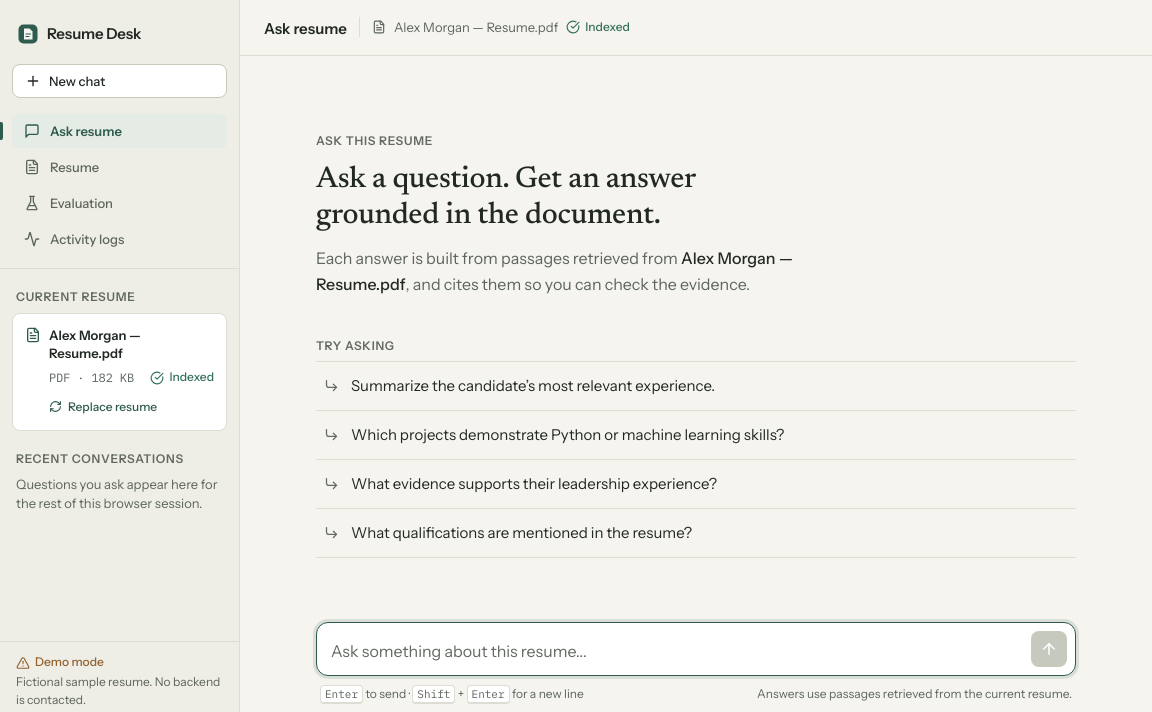
Test: chat flow (demo adapter) › answers with citations, keeps follow-up context, and isolates new conversations
The width and height of the screenshot is (1152, 712).
Type "Which programming languages are mentioned?" into the text box named "Question about the resume".
click(677, 651); type("Which programming languages are mentioned?")  # box [331, 635, 1023, 667]
Then press Enter
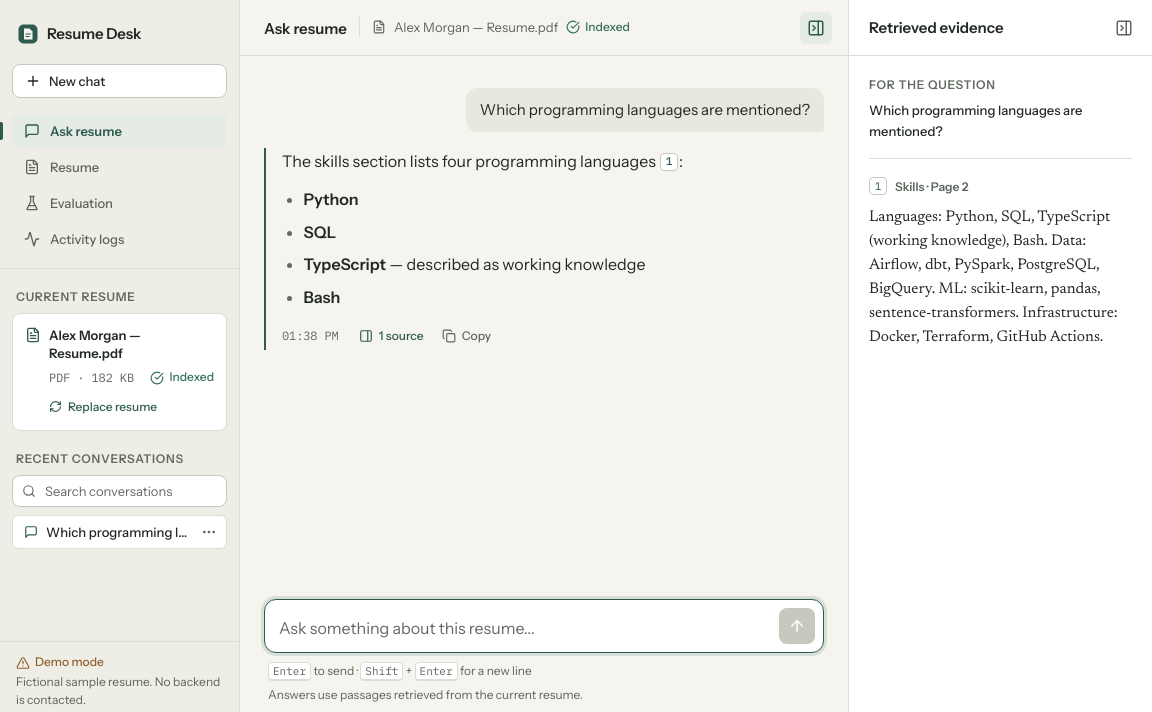
Expected: the text "The skills section lists four programming languages 1 :" is shown, [282, 151, 683, 171]
Type "Which of those were used in projects?" into the text box named "Question about the resume".
click(525, 628); type("Which of those were used in projects?")  # box [279, 612, 771, 644]
Then press Enter
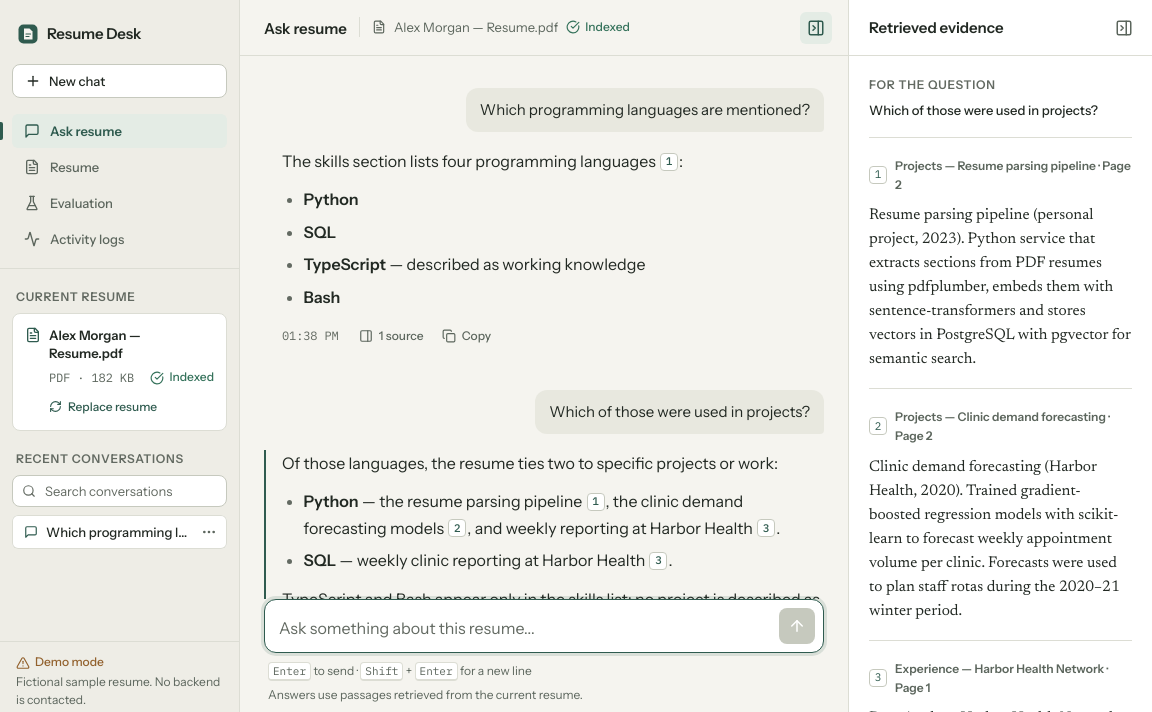
Expected: the text "Which programming languages are mentioned?" below "Recent conversations" is shown, [46, 524, 239, 540]
Expected: the text "Of those languages" is shown, [282, 453, 778, 473]
Click the button named "Source 2".
click(457, 528)  # box [448, 519, 466, 537]
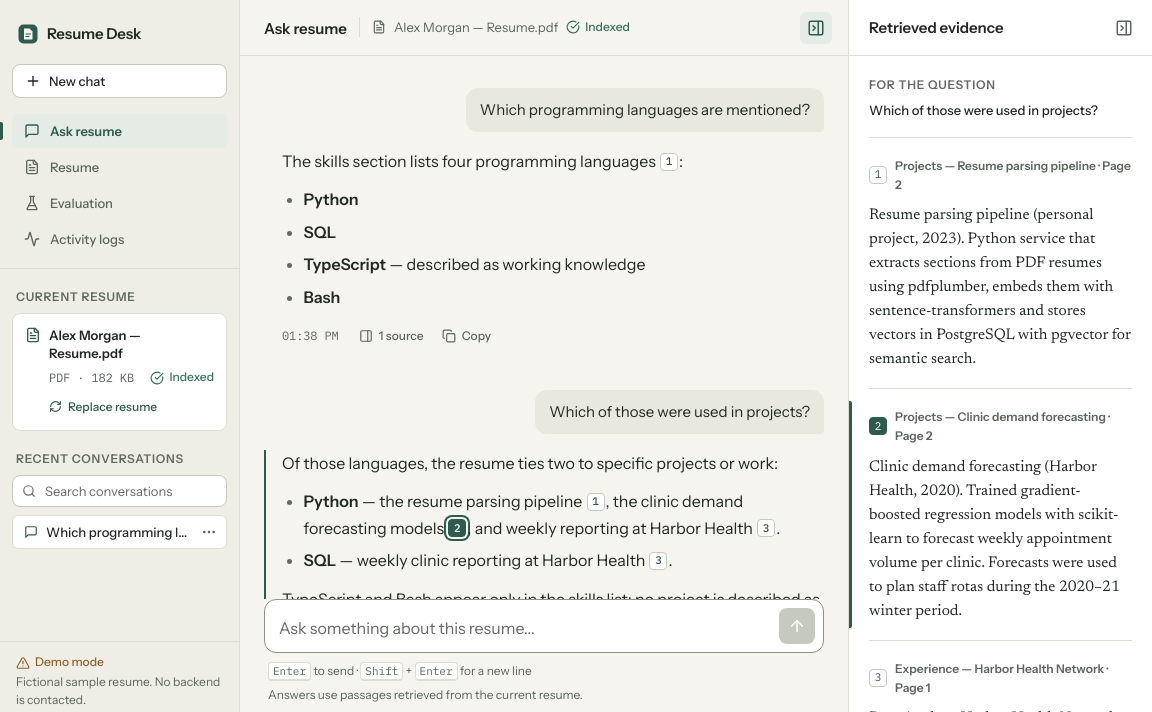
Expected: the button named "Source 2" is pressed, [448, 519, 466, 537]
Click the button "New chat".
click(120, 81)  # box [12, 64, 227, 98]
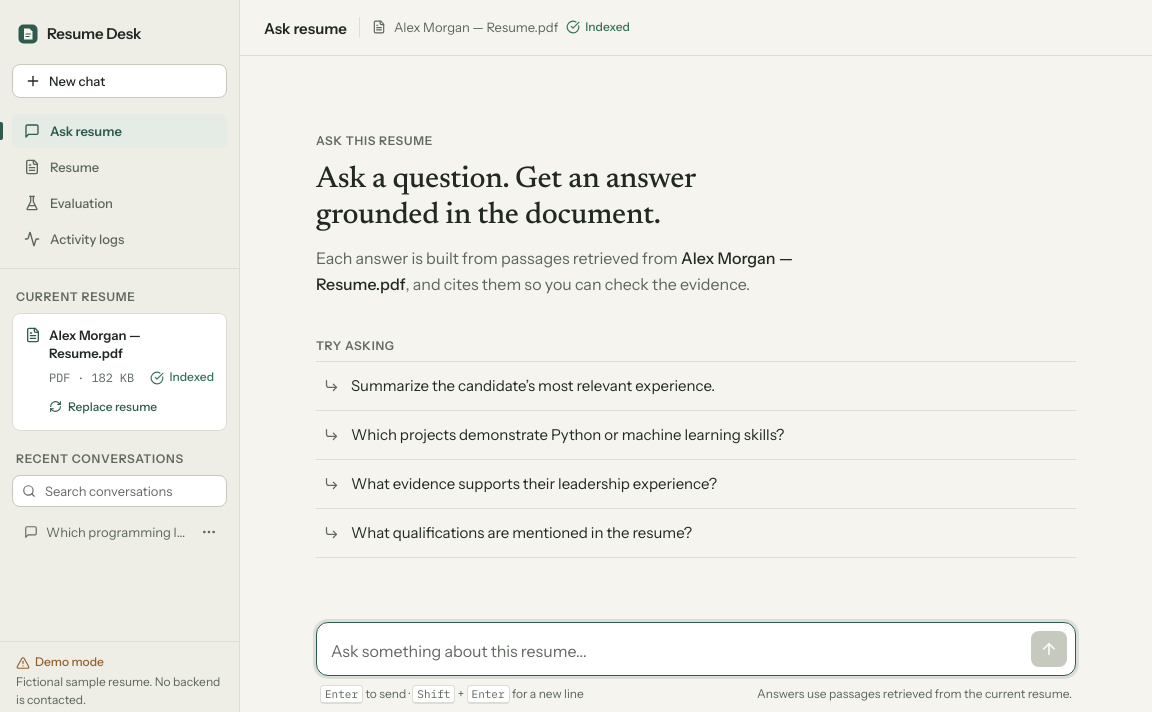
Type "Which of those were used in projects?" into the text box named "Question about the resume".
click(677, 651); type("Which of those were used in projects?")  # box [331, 635, 1023, 667]
Then press Enter
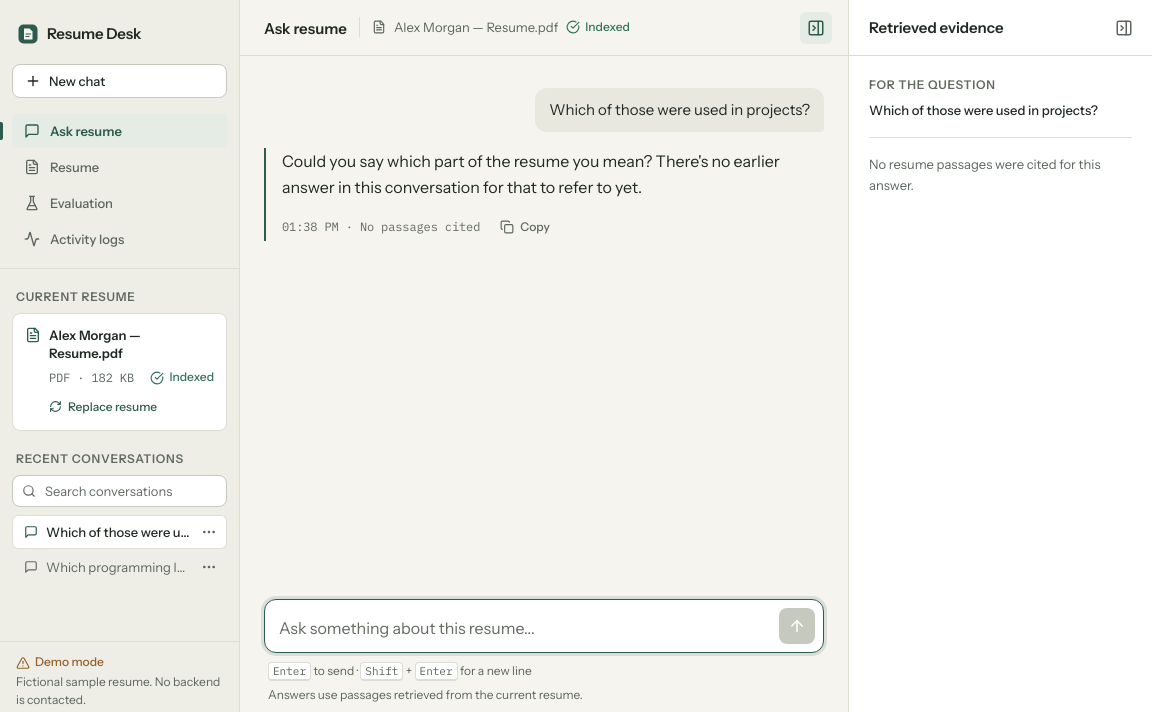
Expected: the text "Could you say which part of the resume you mean" is shown, [282, 151, 780, 197]
